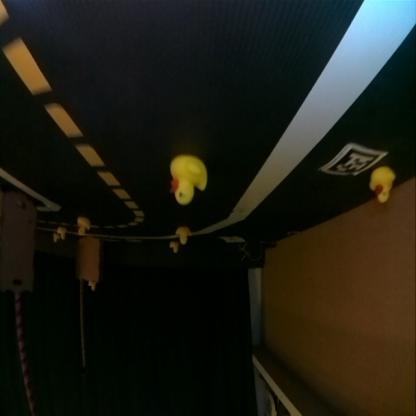Duckie: (169, 156, 207, 204), (371, 167, 394, 203), (176, 226, 192, 245), (77, 218, 89, 235), (171, 243, 179, 254), (87, 282, 95, 292), (58, 229, 65, 240), (52, 236, 58, 244)
QR code: (320, 146, 388, 176)
